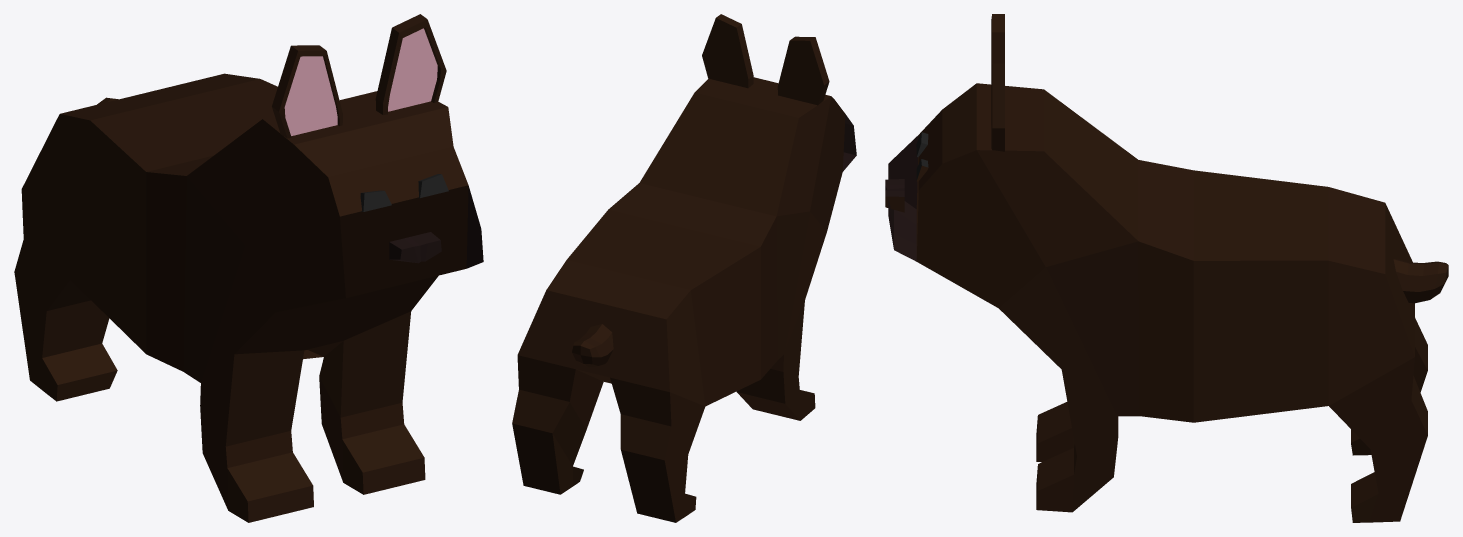
Rendered from dog.fbx.
3 views of the same model, side by side, from view 1: azimuth 30°, elevation 25°; view 2: azimuth 150°, elevation 25°; view 3: azimuth 270°, elevation 25° (orthographic). The views are drawn at different scales.
Visible parts, largest first — view 1: Cube, Cube.001, Cube.002; view 2: Cube, Cube.001, Cube.002, Cube.003; view 3: Cube, Cube.003, Cube.001, Cube.002.
Boxes of the visible parts, <box> form: Cube: <box>14,73,483,522</box>; Cube.001: <box>375,14,446,114</box>; Cube.002: <box>272,45,342,138</box>; Cube: <box>512,77,856,522</box>; Cube.001: <box>702,14,753,88</box>; Cube.002: <box>777,36,829,105</box>; Cube.003: <box>572,324,613,367</box>; Cube: <box>885,83,1427,522</box>; Cube.003: <box>1393,259,1448,303</box>; Cube.001: <box>991,63,1004,151</box>; Cube.002: <box>991,14,1004,68</box>.
Size of the model in its own units: 106 by 237 by 278.
